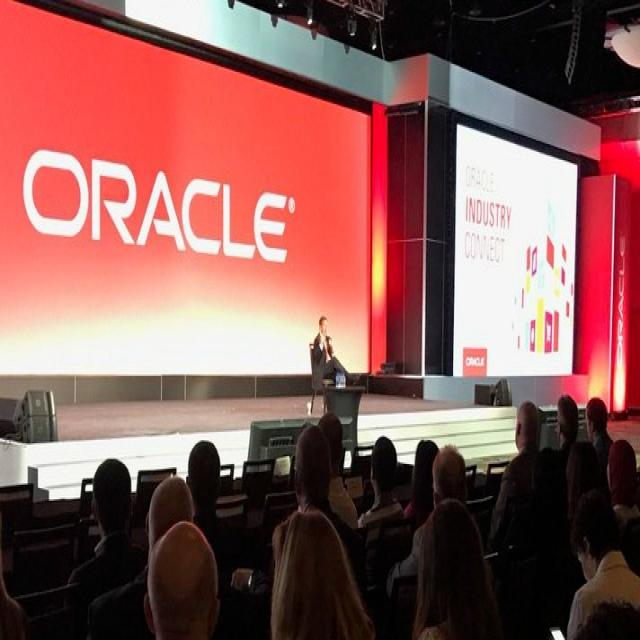oracle: (21, 142, 288, 267)
